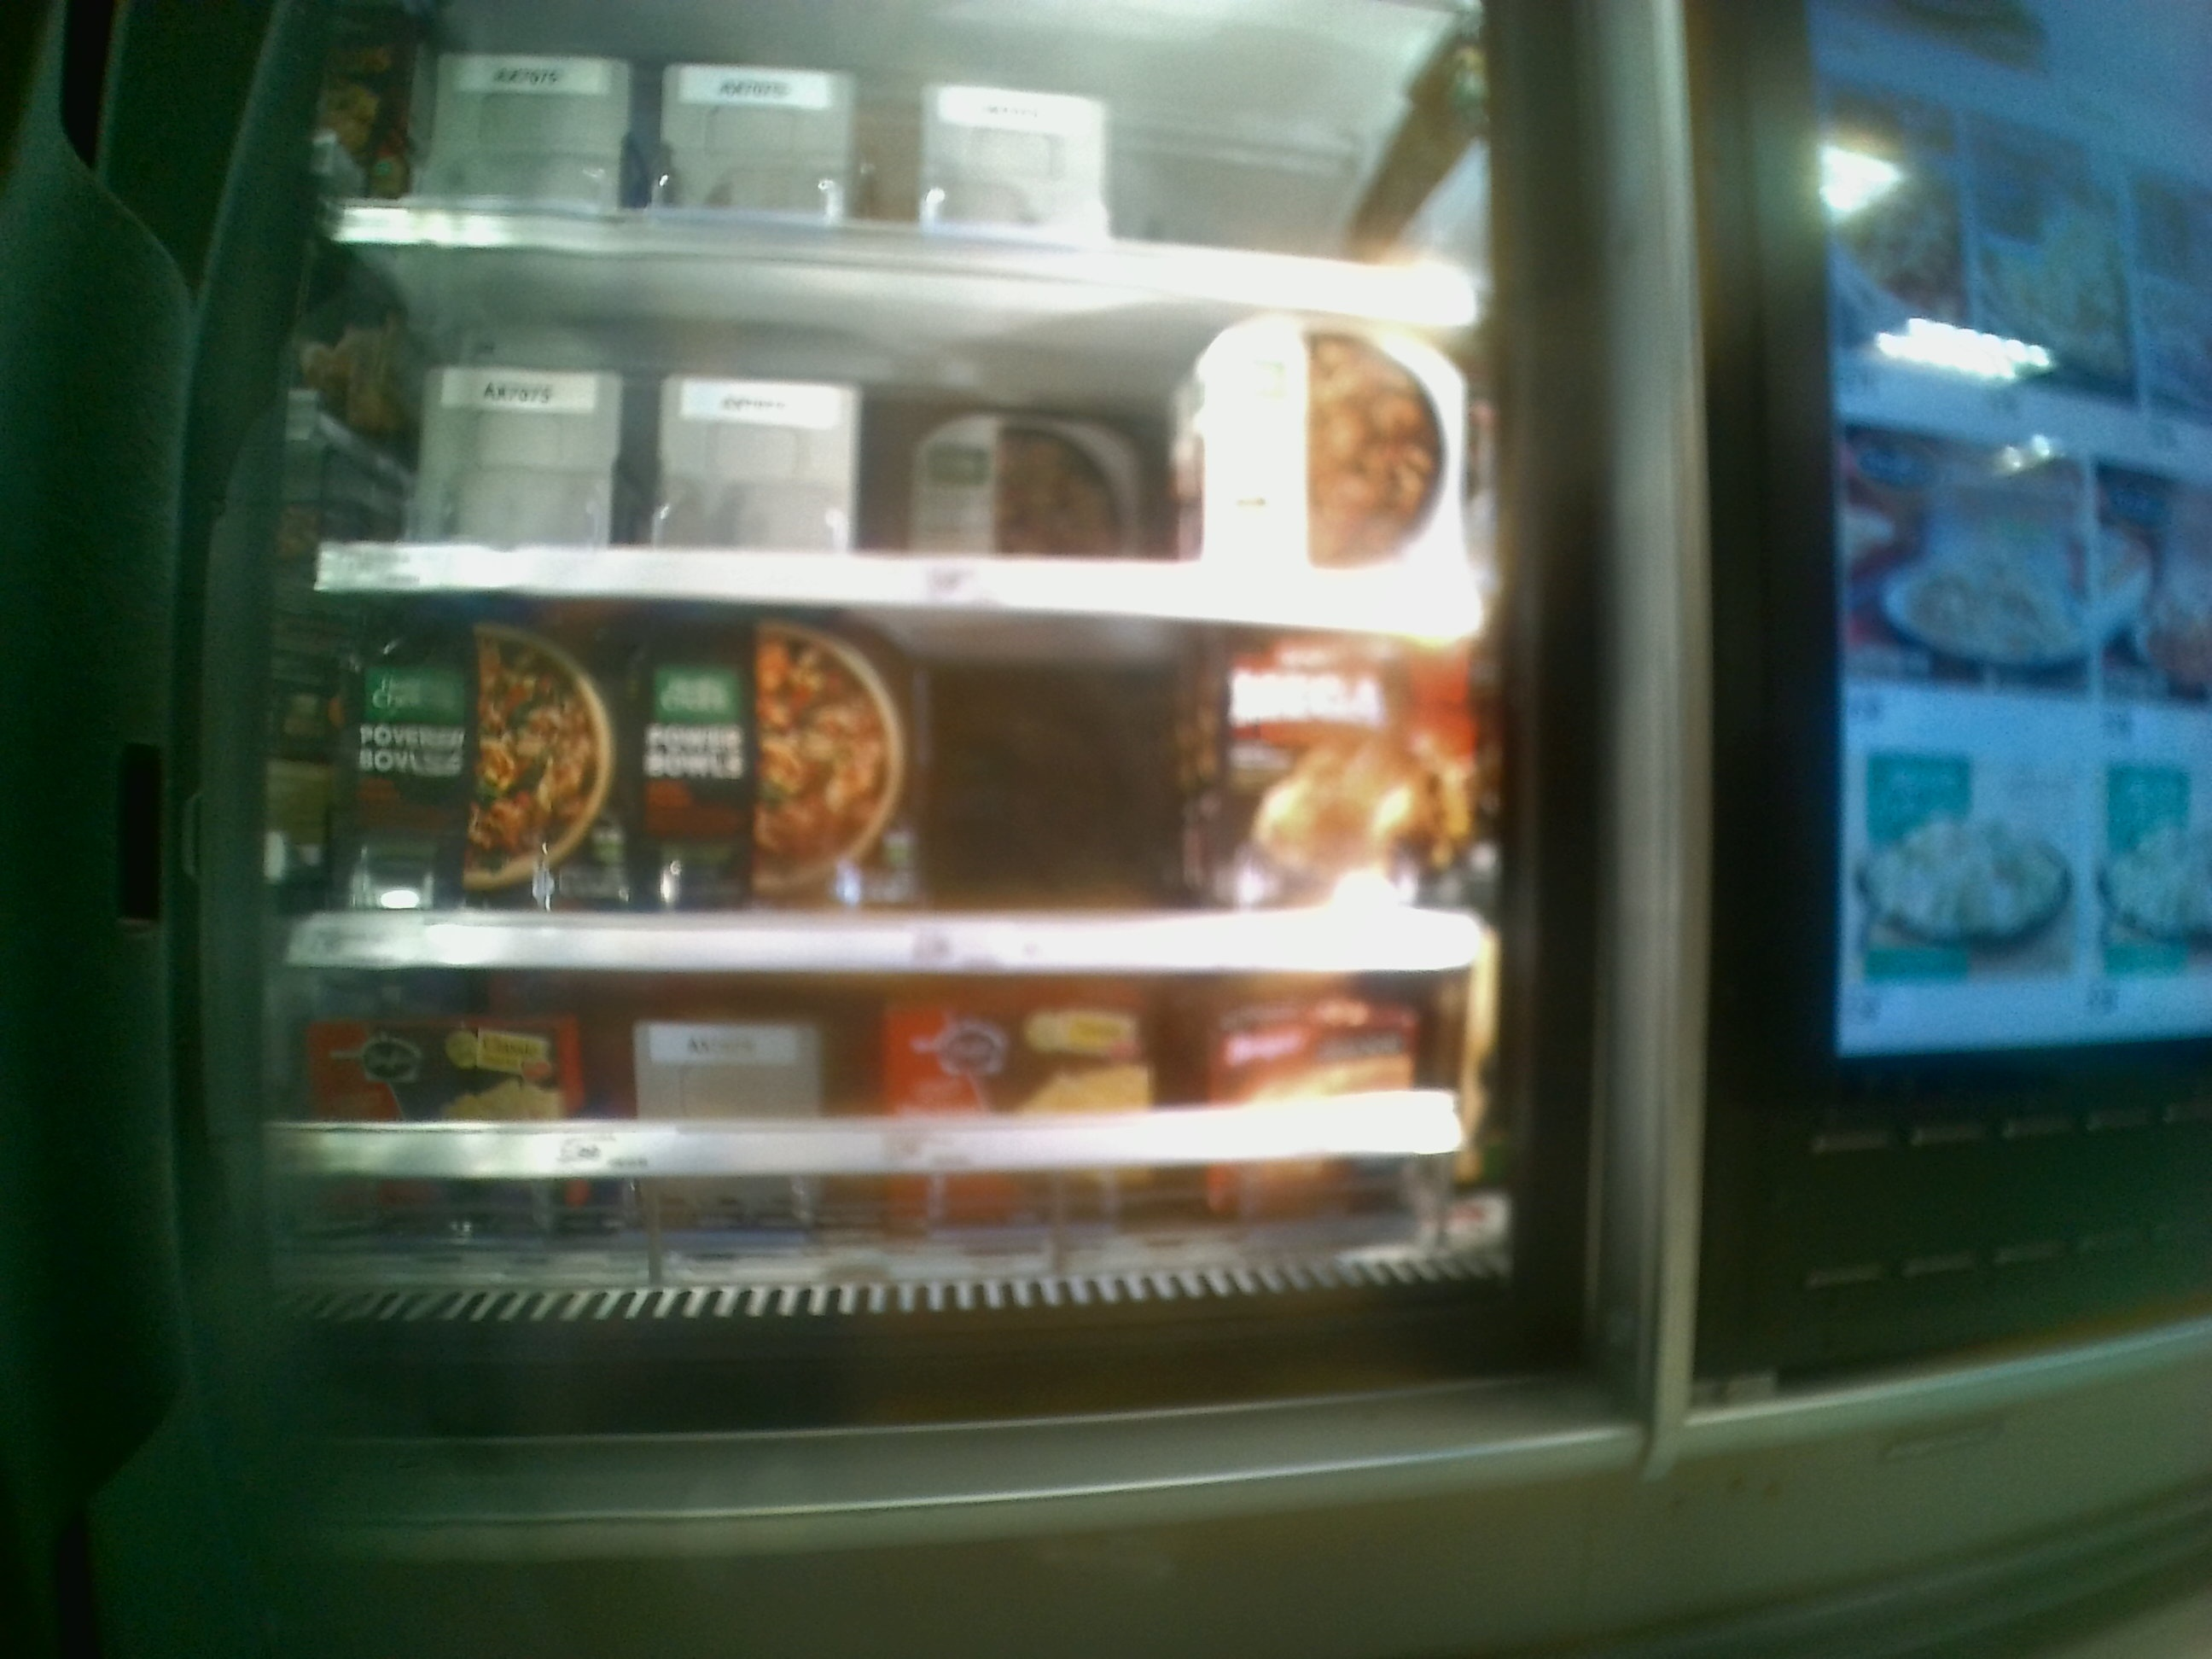Shelf: (265, 962, 1496, 1361), (307, 586, 1493, 978), (326, 230, 1484, 619)
